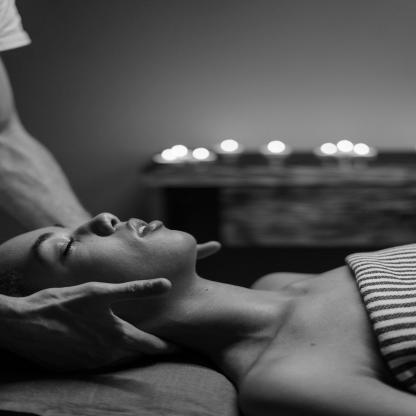Eye: (52, 236, 81, 262)
Mouth: (126, 217, 168, 239)
Nose: (77, 212, 122, 236)
